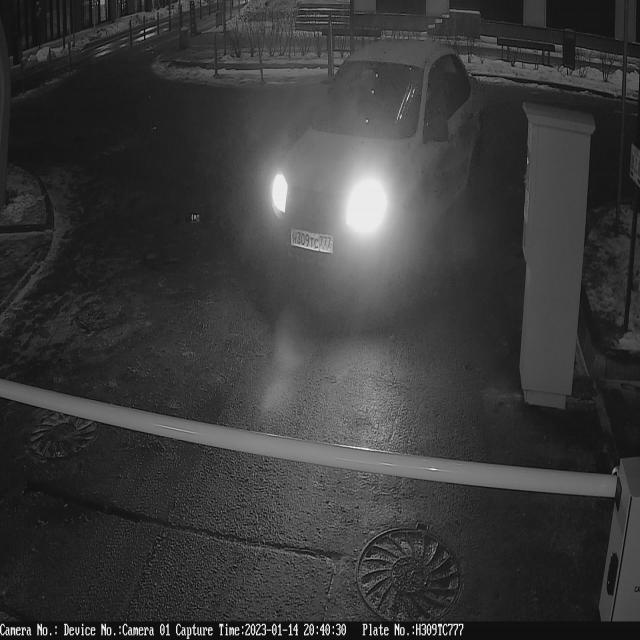car-plate-numbers: (289, 224, 340, 262)
